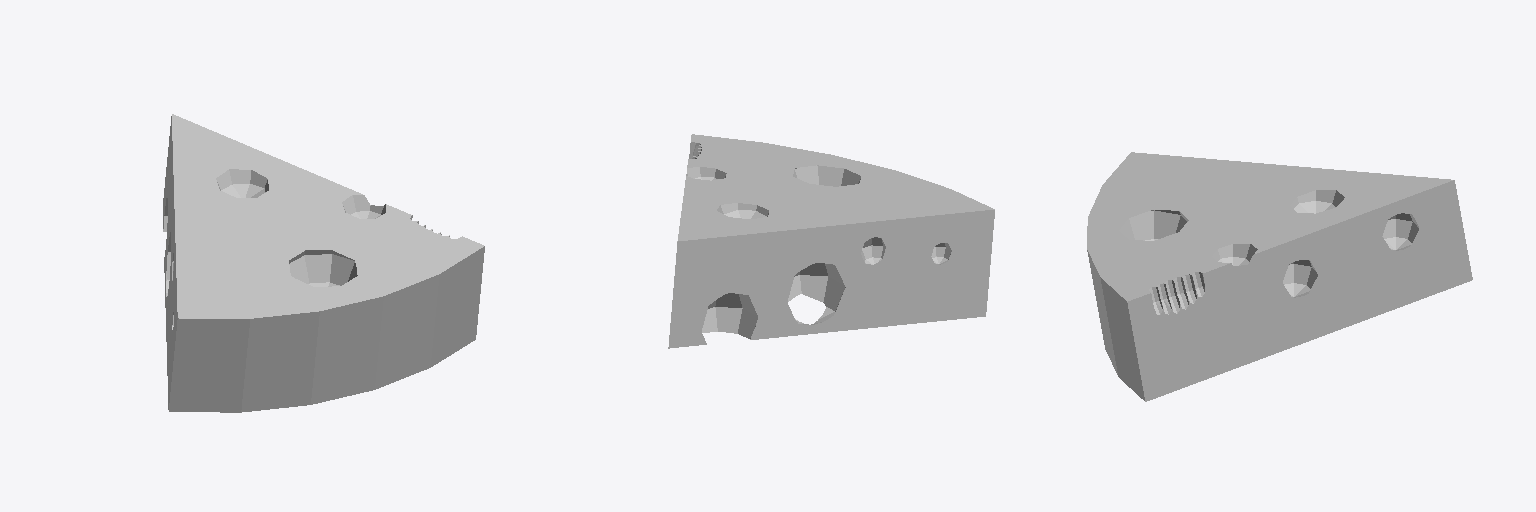
The model's file is cheese_basic.sgm.obj.
3 views of the same model, side by side, from view 1: azimuth 30°, elevation 25°; view 2: azimuth 150°, elevation 25°; view 3: azimuth 270°, elevation 25° (orthographic).
Size of the model in its own units: 0.661 by 0.3212 by 0.7234.